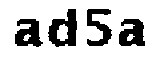5: (85, 7, 114, 49)
a: (10, 16, 44, 50), (117, 17, 147, 50)
d: (46, 8, 82, 50)
